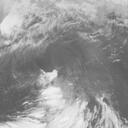cyclone: (40, 69, 87, 119)
